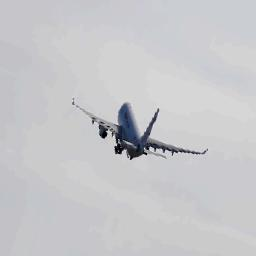Airplane: (69, 97, 210, 160)
